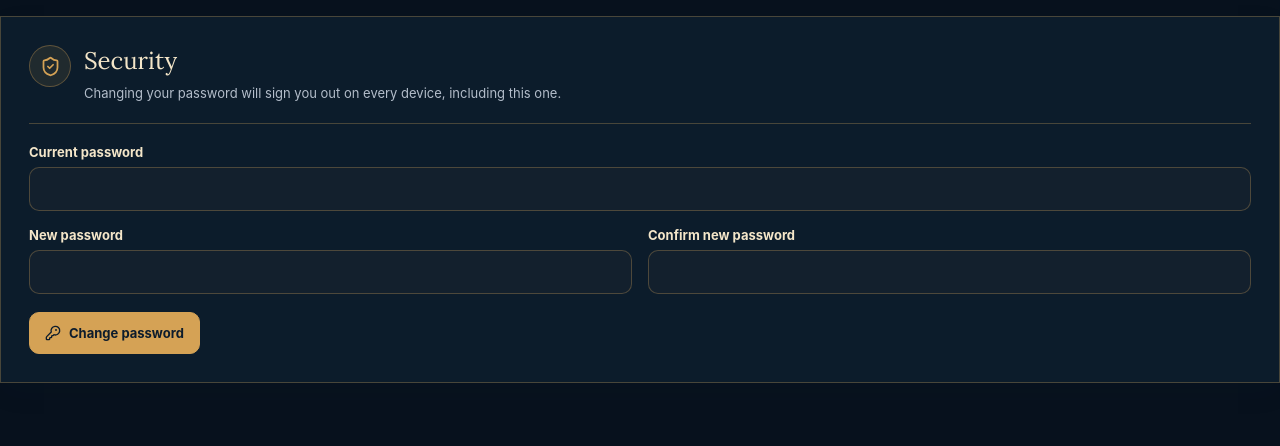
Test: profile controls › validates password confirmation before sending a request
Type "Current123!" into the password field labelled "Current password".
click(640, 189); type("Current123!")  # box [29,167,1251,211]
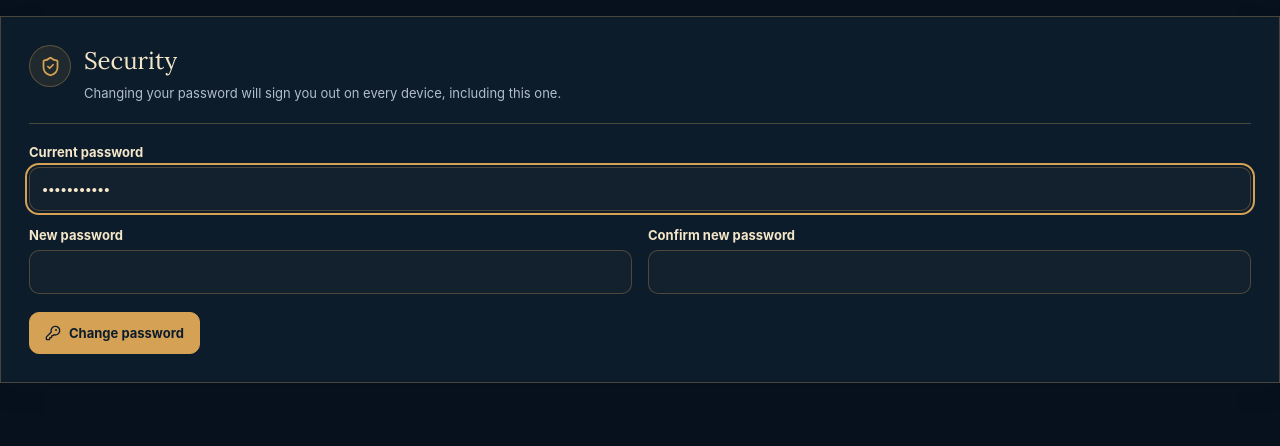
Type "NewPassword123!" into the password field labelled "New password".
click(330, 272); type("NewPassword123!")  # box [29,250,632,294]
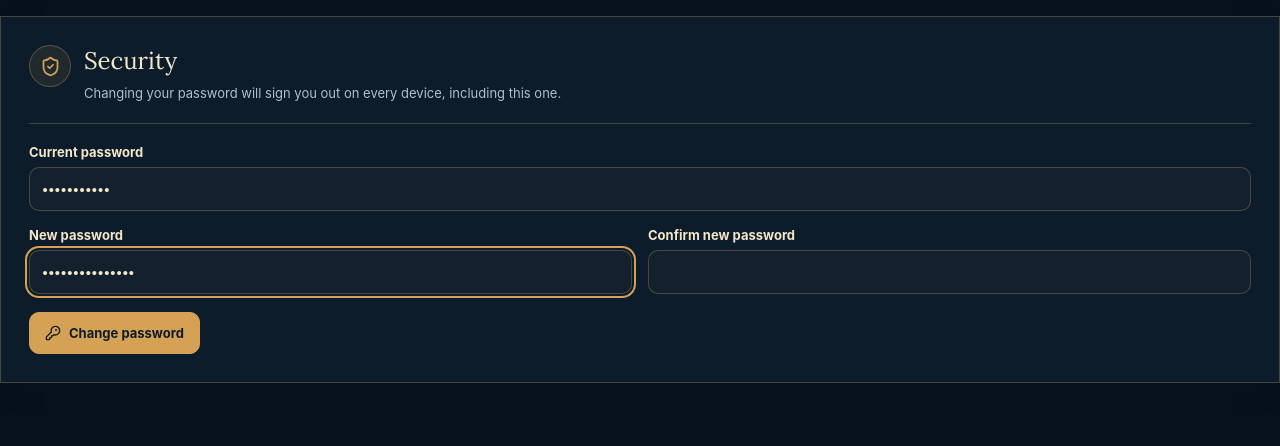
Type "Different123!" into the password field labelled "Confirm new password".
click(950, 272); type("Different123!")  # box [648,250,1251,294]
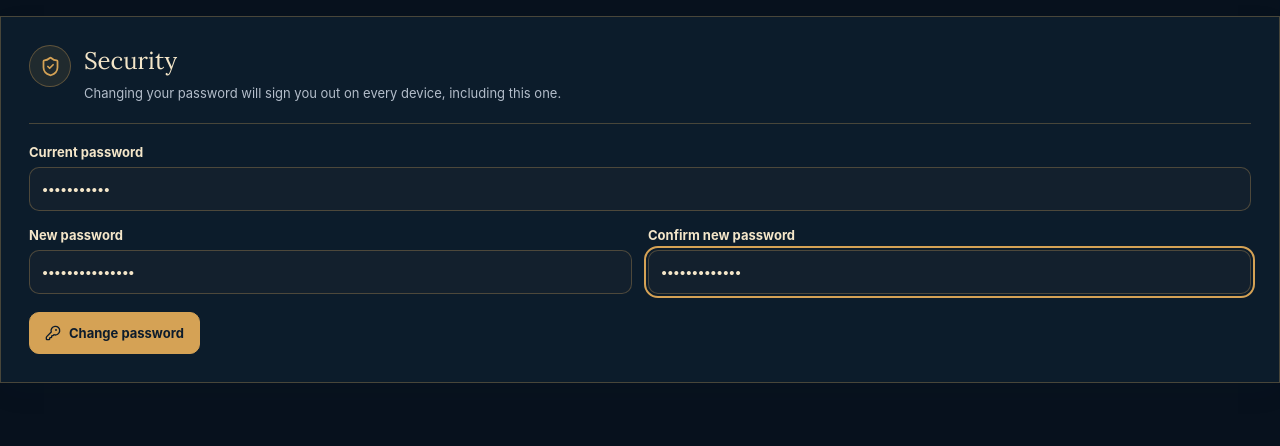
Click the button "Change password".
click(114, 333)  # box [29,312,200,354]
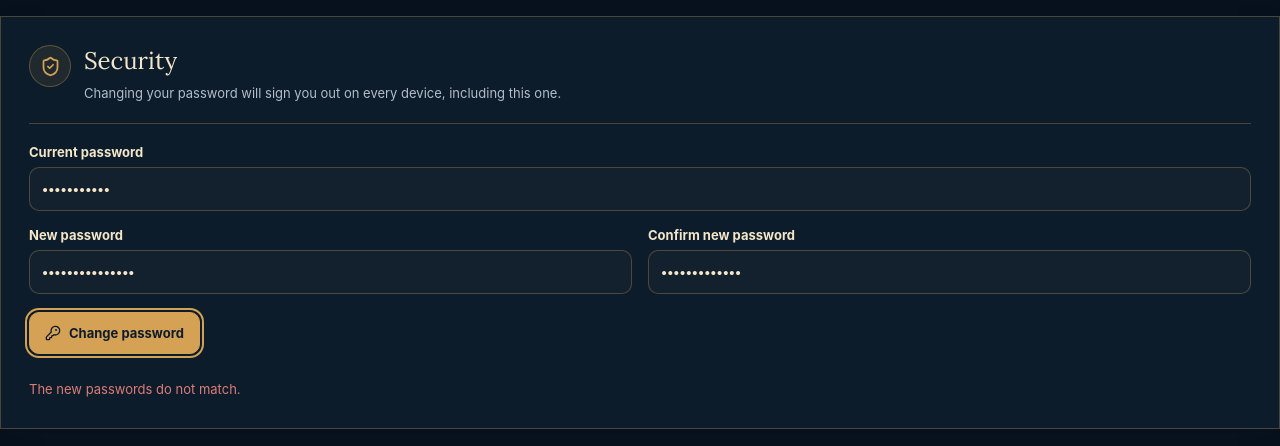
Check: the text "The new passwords do not match." is shown, box [29,381,241,397]
